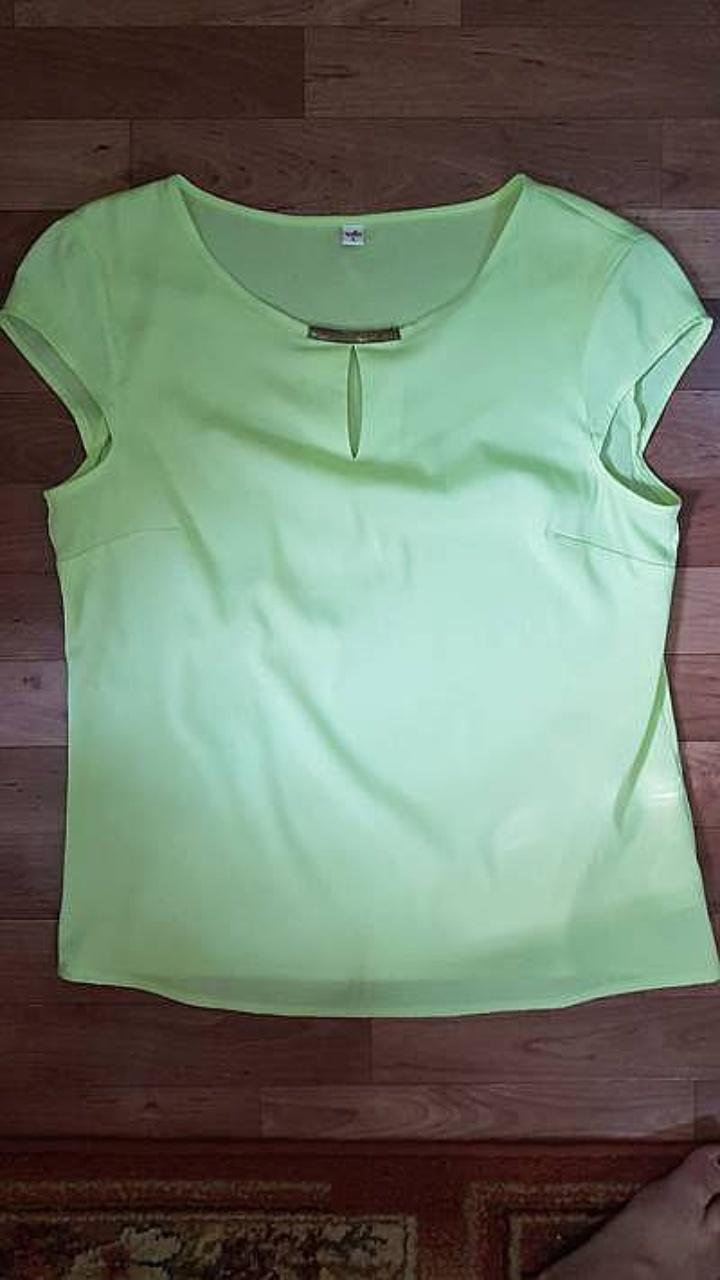T-Shirt: (0, 173, 719, 1015)
